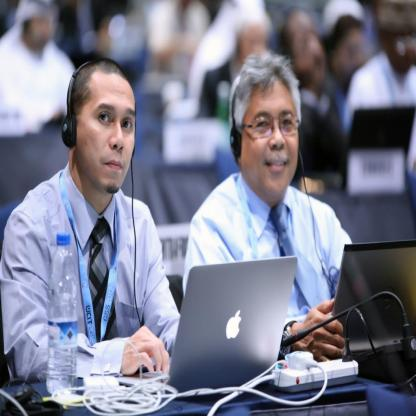board: (164, 254, 308, 390), (330, 239, 416, 359), (341, 107, 416, 189), (46, 234, 80, 397)
